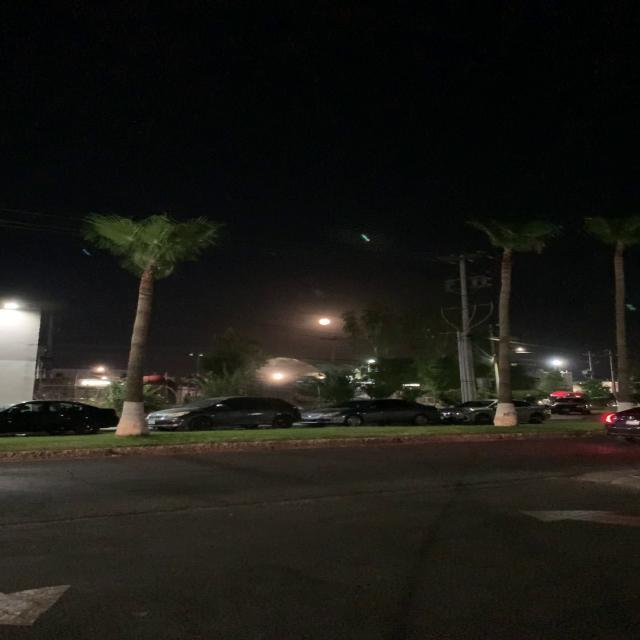moon: (316, 316, 336, 328)
